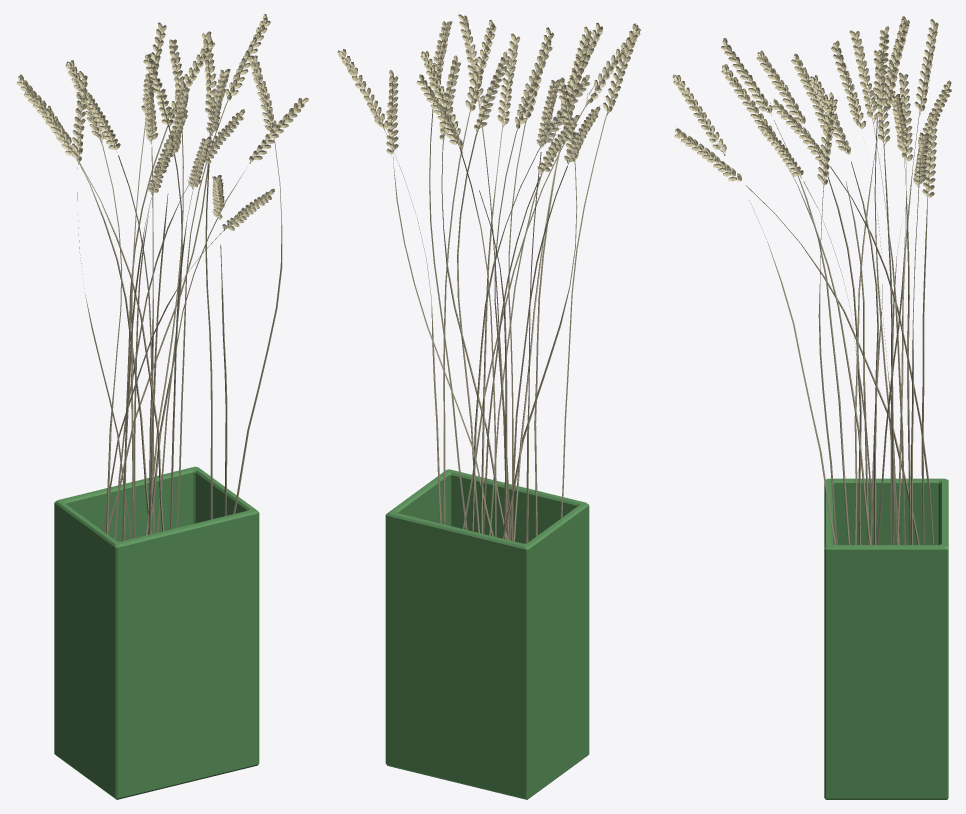
Rendered from sweethome3d-scopia-vase-59.glb.
The picture shows the model from 3 angles, left to right: view 1: azimuth 30°, elevation 25°; view 2: azimuth 150°, elevation 25°; view 3: azimuth 270°, elevation 25°; orthographic projection.
Parts seen in each view (by area): view 1: jarronCristal_Cube.1276, espigas_leaves.001_trunk, espigas_leaves.001_leaves, espigas_leaves.001; view 2: jarronCristal_Cube.1276, espigas_leaves.001_trunk, espigas_leaves.001_leaves, espigas_leaves.001; view 3: jarronCristal_Cube.1276, espigas_leaves.001_trunk, espigas_leaves.001_leaves, espigas_leaves.001.
Part boxes in pixels (x1,y1,x2,y2): jarronCristal_Cube.1276: [54, 466, 259, 799]; espigas_leaves.001_trunk: [24, 27, 296, 541]; espigas_leaves.001_leaves: [16, 14, 308, 230]; espigas_leaves.001: [16, 29, 299, 230]; jarronCristal_Cube.1276: [385, 469, 589, 799]; espigas_leaves.001_trunk: [345, 23, 634, 543]; espigas_leaves.001_leaves: [337, 14, 640, 172]; espigas_leaves.001: [344, 21, 641, 174]; jarronCristal_Cube.1276: [824, 478, 948, 799]; espigas_leaves.001_trunk: [746, 30, 933, 544]; espigas_leaves.001_leaves: [672, 16, 951, 197]; espigas_leaves.001: [677, 29, 939, 197].
Bounding box in the file's own units: 0.3269 × 0.8742 × 0.3122.
